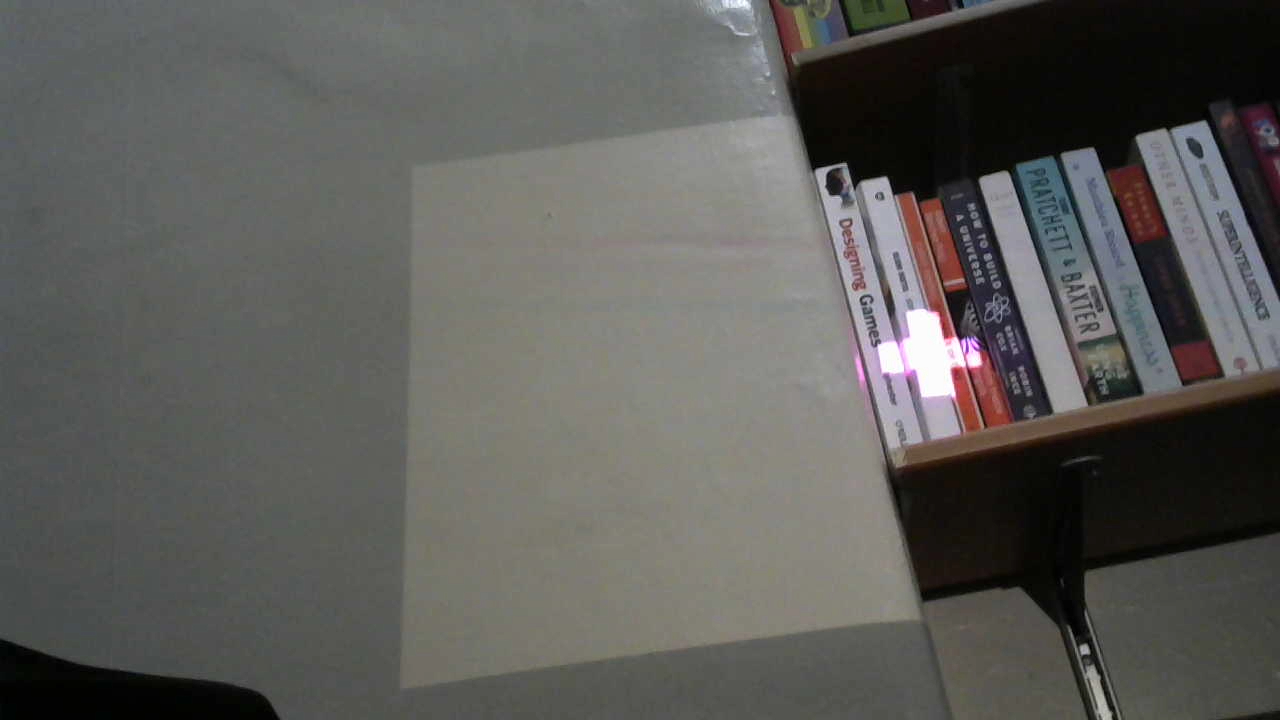calibration_symbol: (877, 308, 982, 399)
